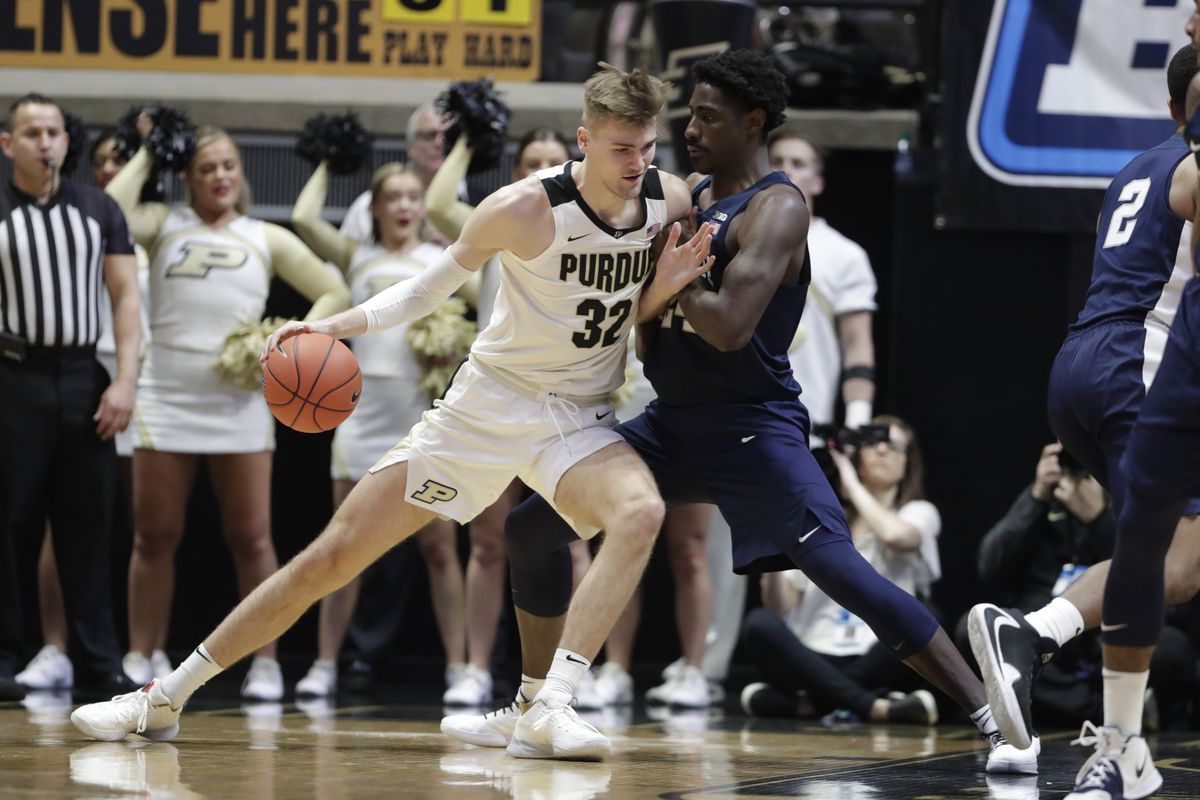ball: (242, 316, 370, 436)
defense: (640, 38, 1060, 795)
